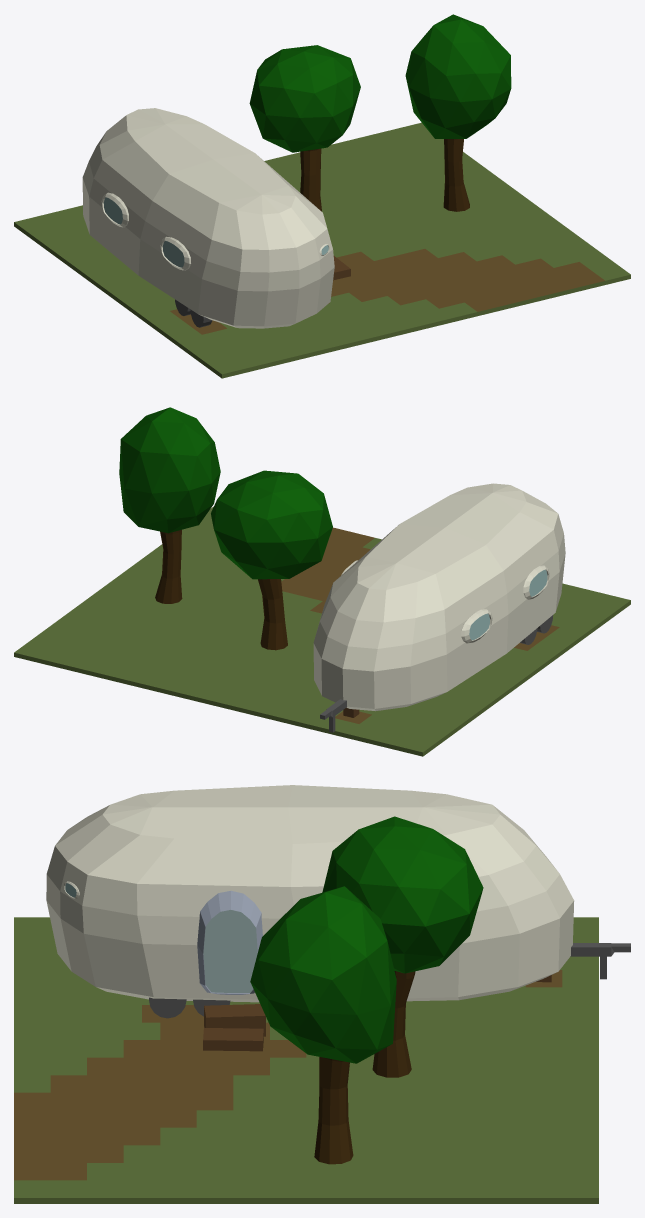
File: Wohnhaus_Tier1.fbx
3 views of the same model, one above another, from view 1: azimuth 30°, elevation 25°; view 2: azimuth 150°, elevation 25°; view 3: azimuth 270°, elevation 25° (orthographic). The views are drawn at different scales.
Visible parts, largest first — view 1: Cube; view 2: Cube; view 3: Cube.
Part boxes in pixels (bbox=[...]): Cube: bbox=[14, 14, 630, 378]; Cube: bbox=[14, 407, 630, 756]; Cube: bbox=[14, 785, 630, 1203].
Size of the model in its own units: 358 by 161 by 333.
